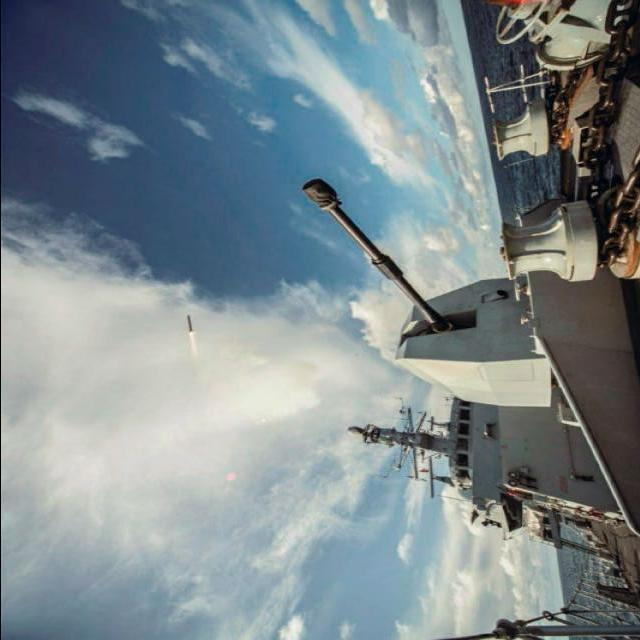missile: (184, 313, 193, 338)
